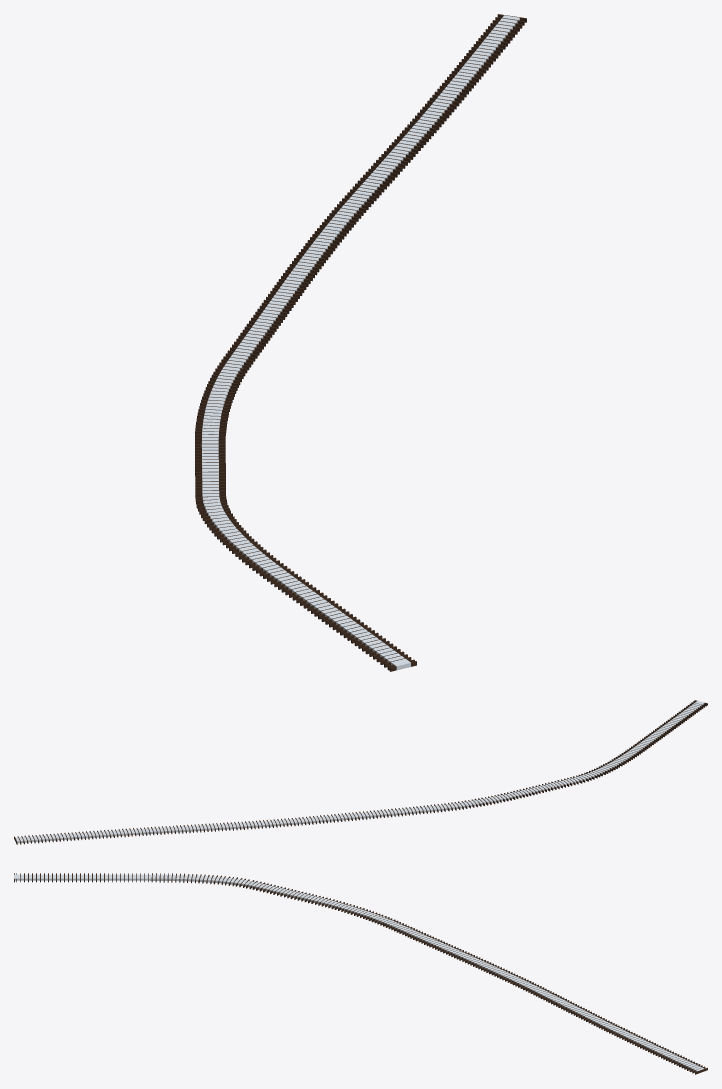
File: Ties_0_0.fbx
3 renders of one model, top to bottom at view 1: azimuth 30°, elevation 25°; view 2: azimuth 150°, elevation 25°; view 3: azimuth 270°, elevation 25°, orthographic. The views are drawn at different scales.
Parts seen in each view (by area): view 1: Ties_0_0; view 2: Ties_0_0; view 3: Ties_0_0.
Boxes of the visible parts, box(x1,y1,x2,y2) form: Ties_0_0: box(195, 14, 526, 671); Ties_0_0: box(14, 700, 707, 844); Ties_0_0: box(14, 873, 707, 1074).
Bounding box in the file's own units: 24025 × 303 × 34790.
